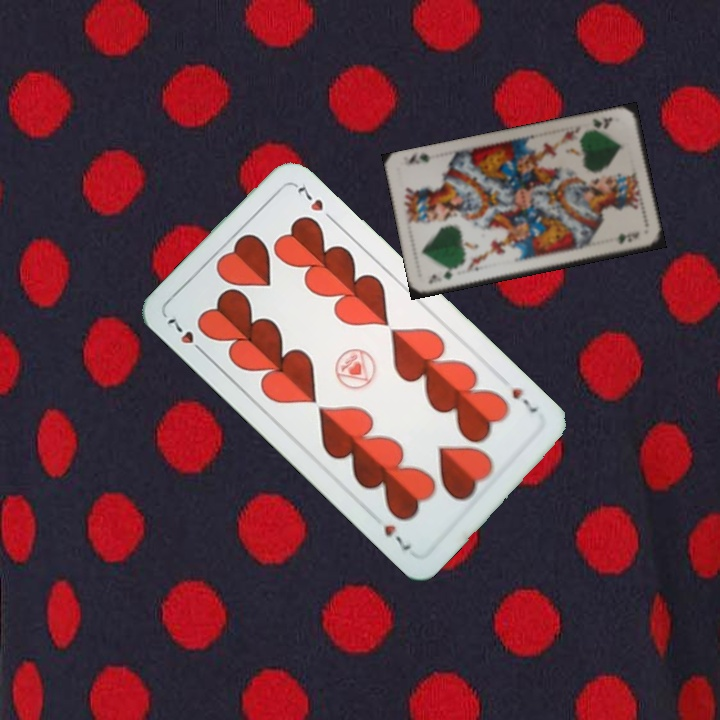GK: (425, 267, 456, 286), (588, 113, 615, 132)
H7: (162, 314, 209, 358), (507, 384, 542, 416)
